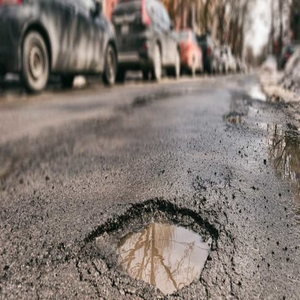pothole: (79, 194, 221, 298)
